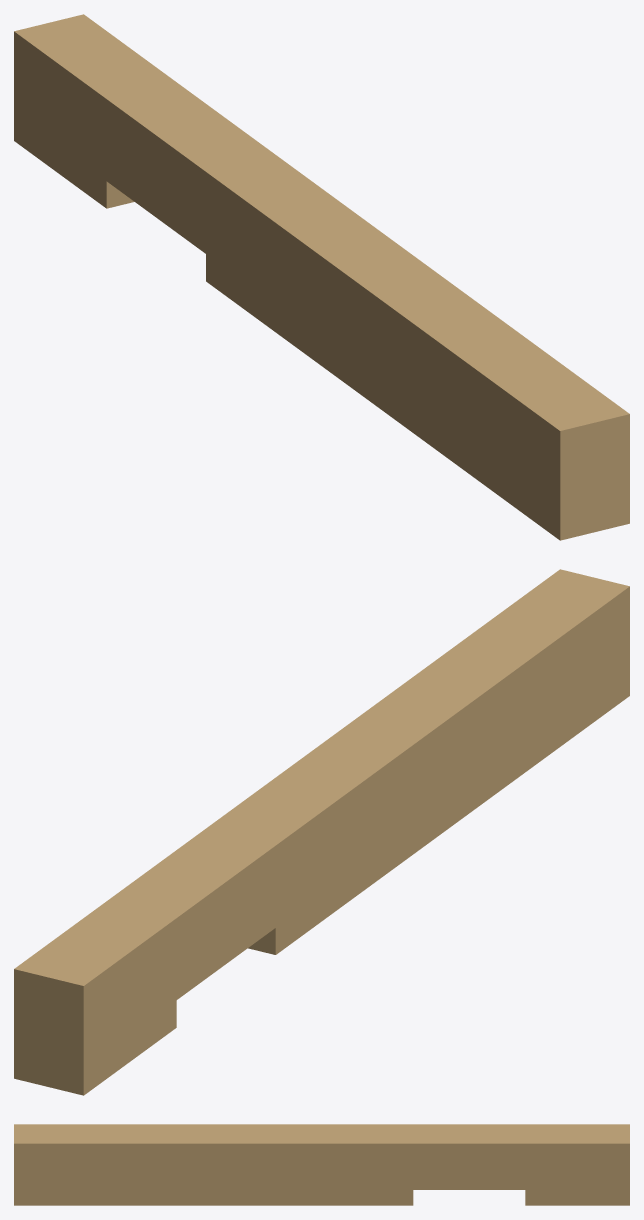
Rendered from EntranceReducer.fbx.
The picture shows the model from 3 angles, top to bottom: view 1: azimuth 30°, elevation 25°; view 2: azimuth 150°, elevation 25°; view 3: azimuth 270°, elevation 25°; orthographic projection. The views are drawn at different scales.
Visible parts, largest first — view 1: Cube; view 2: Cube; view 3: Cube.
Part boxes in pixels (bbox=[...]): Cube: bbox=[14, 14, 629, 540]; Cube: bbox=[14, 569, 629, 1095]; Cube: bbox=[14, 1124, 629, 1205].
Size of the model in its own units: 2 by 3 by 27.1.
